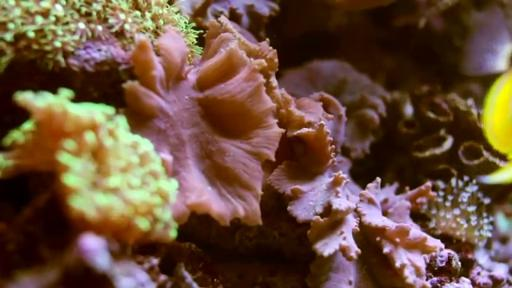Fish: (479, 70, 511, 183), (460, 6, 511, 75)
